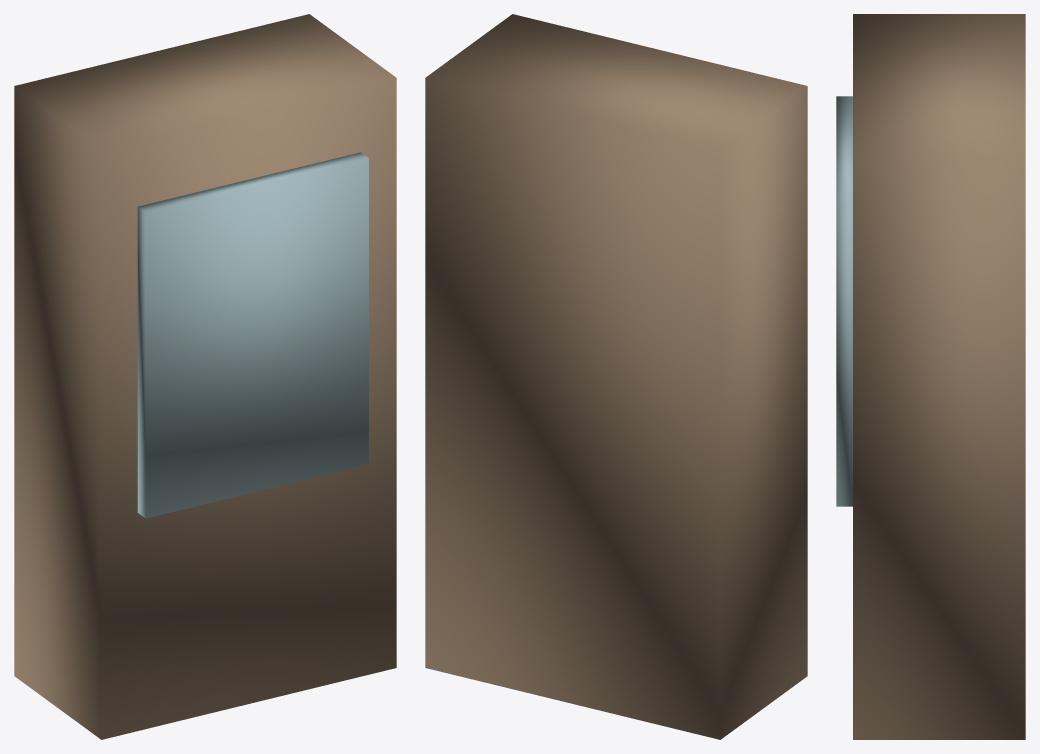
File: shrine_cabinet__tall.glb
The picture shows the model from 3 angles, left to right: view 1: azimuth 30°, elevation 25°; view 2: azimuth 150°, elevation 25°; view 3: azimuth 270°, elevation 25°; orthographic projection.
Visible parts, largest first — view 1: world; view 2: world; view 3: world.
Part boxes in pixels (x1,y1,x2,y2): world: (14,14,396,739); world: (425,14,807,739); world: (836,14,1025,739).
Size of the model in its own units: 0.82 by 1.57 by 0.46.
